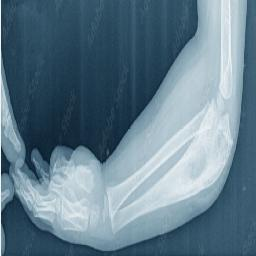cancer: (186, 104, 230, 191)
